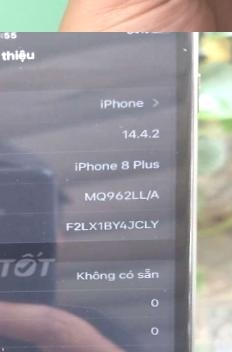scratch: (182, 275, 197, 348), (176, 39, 194, 55)
